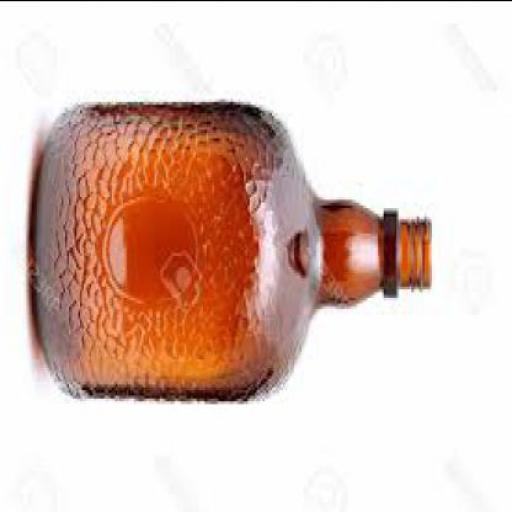glass: (34, 98, 434, 394)
